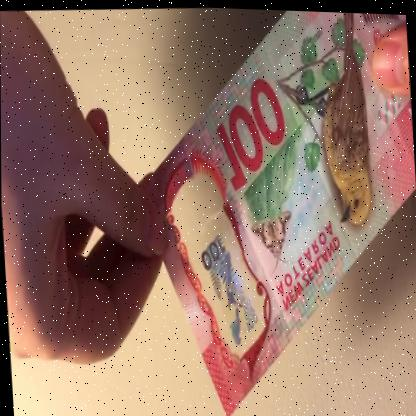100B: (195, 216, 260, 350)
